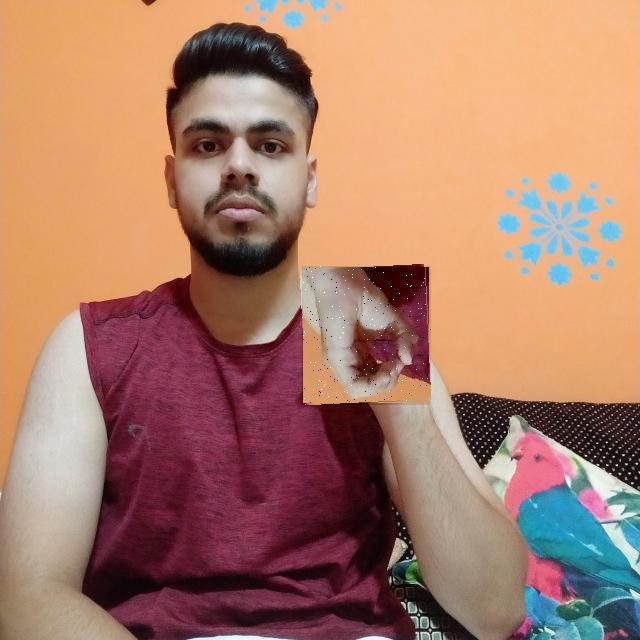O: (302, 266, 431, 405)
